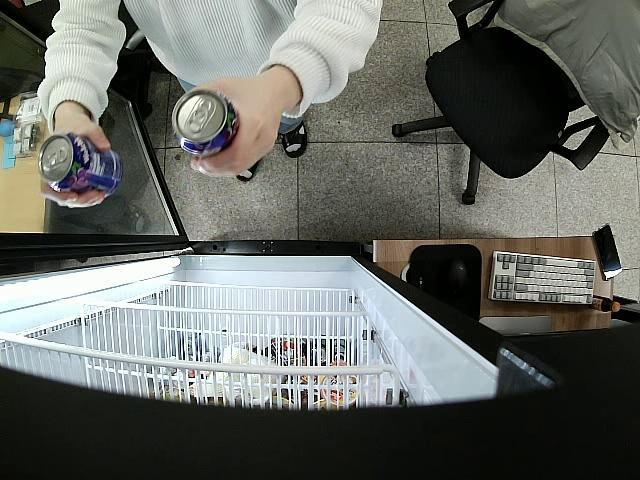14_welchsGrape: (39, 134, 124, 198), (172, 90, 241, 161)
